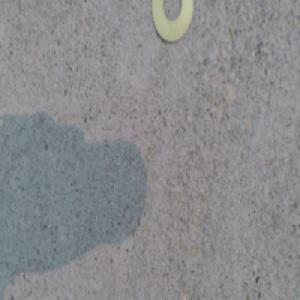Washer: (151, 0, 193, 42)
